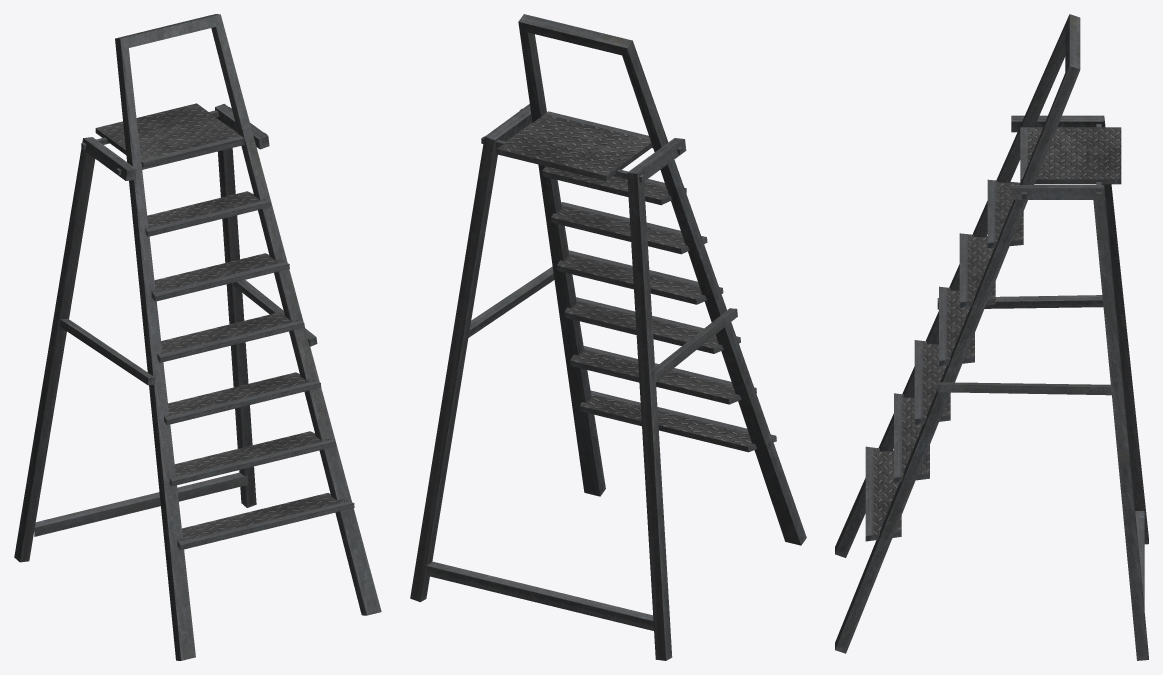
Rendered from Ladder_02.glb.
The picture shows the model from 3 angles, left to right: view 1: azimuth 30°, elevation 25°; view 2: azimuth 150°, elevation 25°; view 3: azimuth 270°, elevation 25°; orthographic projection. The views are drawn at different scales.
Visible parts, largest first — view 1: Ladder_02; view 2: Ladder_02; view 3: Ladder_02.
Part boxes in pixels (x1,y1,x2,y2): Ladder_02: [14, 14, 381, 660]; Ladder_02: [410, 14, 806, 660]; Ladder_02: [835, 14, 1148, 660].
Size of the model in its own units: 1.41 by 3.02 by 1.53.
1 material, 1 textured.
